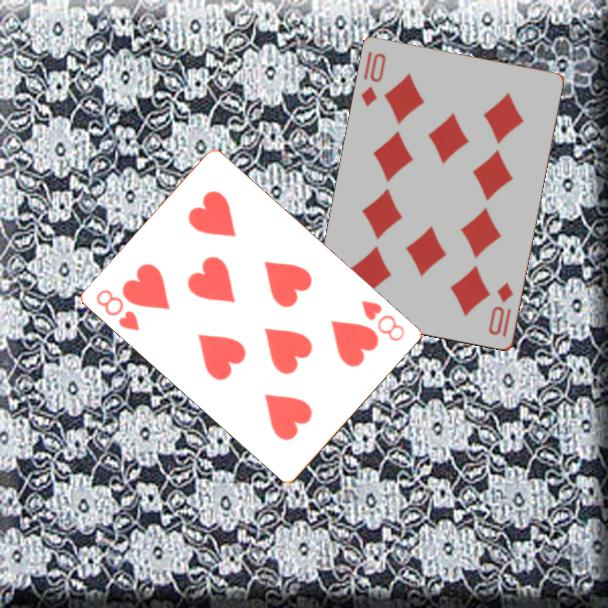d10: (485, 279, 517, 340), (358, 48, 389, 110)
h08: (93, 285, 143, 334), (358, 297, 408, 345)
